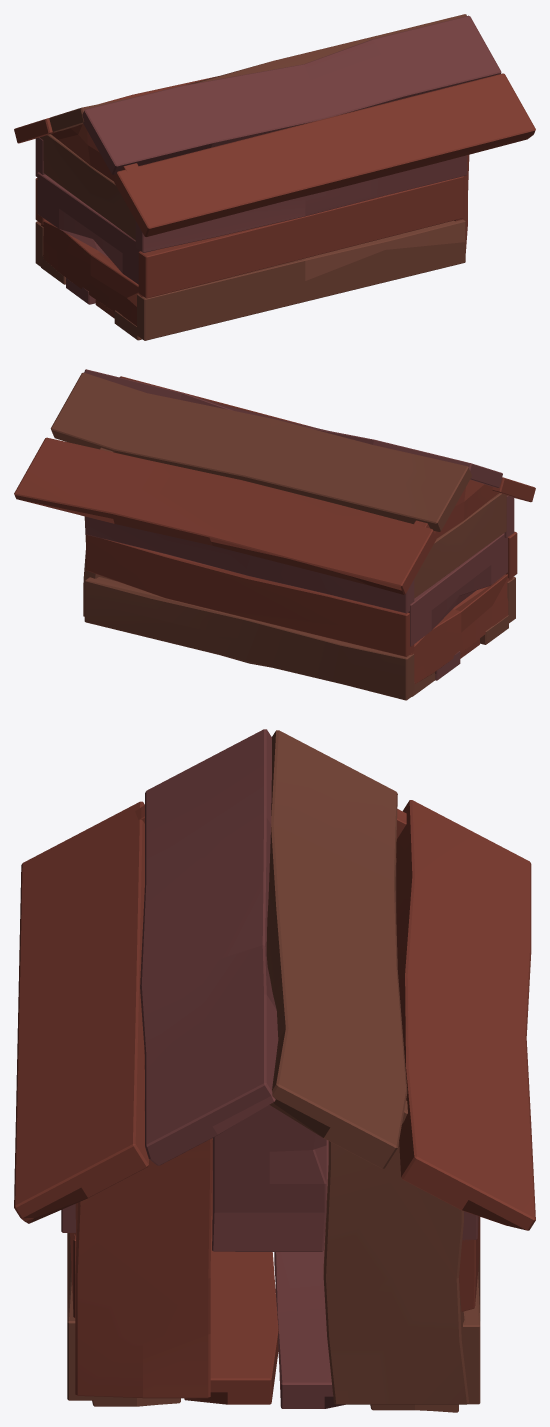
File: dog's bed.fbx
3 views of the same model, one above another, from view 1: azimuth 30°, elevation 25°; view 2: azimuth 150°, elevation 25°; view 3: azimuth 270°, elevation 25° (orthographic). The views are drawn at different scales.
Visible parts, largest first — view 1: cuccia; view 2: cuccia; view 3: cuccia.
Part boxes in pixels (box(x1,y1,x2,y2)): cuccia: box(14, 14, 535, 340); cuccia: box(14, 369, 535, 700); cuccia: box(14, 729, 535, 1412).
Bounding box in the file's own units: 289 × 146 × 178.
